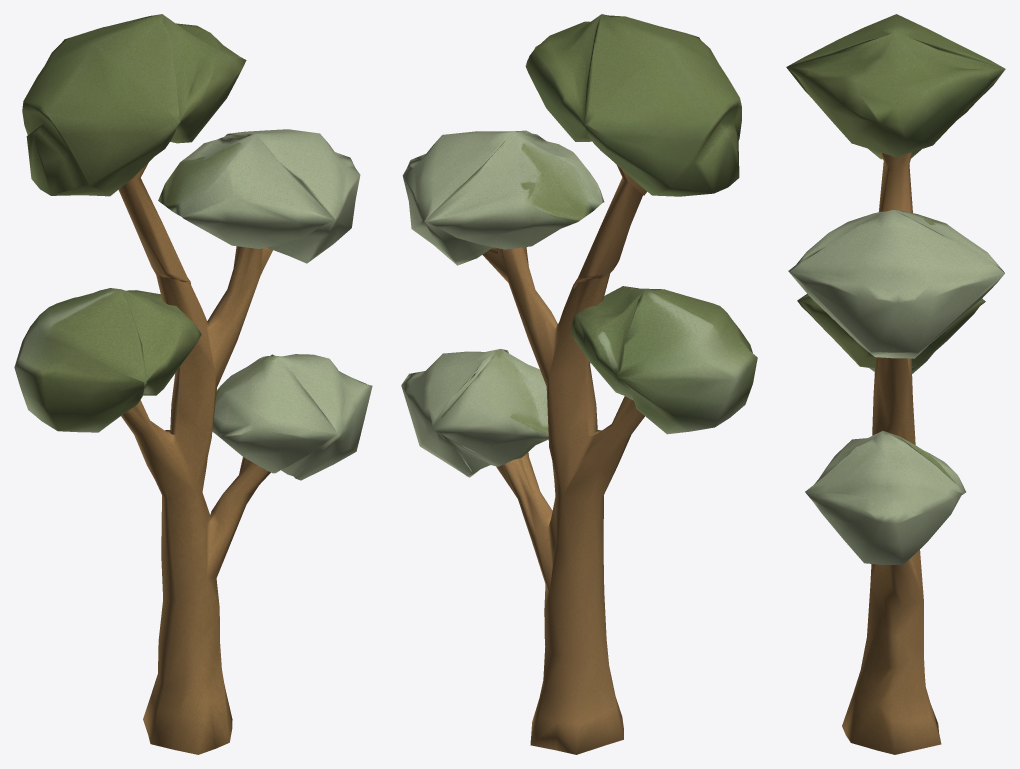
Rendered from AW-TREE-002-v0.2.glb.
The picture shows the model from 3 angles, left to right: view 1: azimuth 30°, elevation 25°; view 2: azimuth 150°, elevation 25°; view 3: azimuth 270°, elevation 25°; orthographic projection. The views are drawn at different scales.
Parts seen in each view (by area): view 1: AW-TREE-002_meter_ground_pivot; view 2: AW-TREE-002_meter_ground_pivot; view 3: AW-TREE-002_meter_ground_pivot.
Boxes of the visible parts, left/top/right/bottom form: AW-TREE-002_meter_ground_pivot: left=14, top=14, right=372, bottom=754; AW-TREE-002_meter_ground_pivot: left=401, top=14, right=757, bottom=754; AW-TREE-002_meter_ground_pivot: left=786, top=14, right=1005, bottom=754.
Bounding box in the file's own units: 2.29 × 4.6 × 1.33.
1 material, 1 textured.
